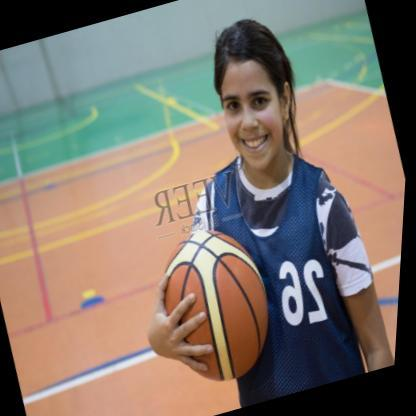basketball: (149, 219, 293, 392)
